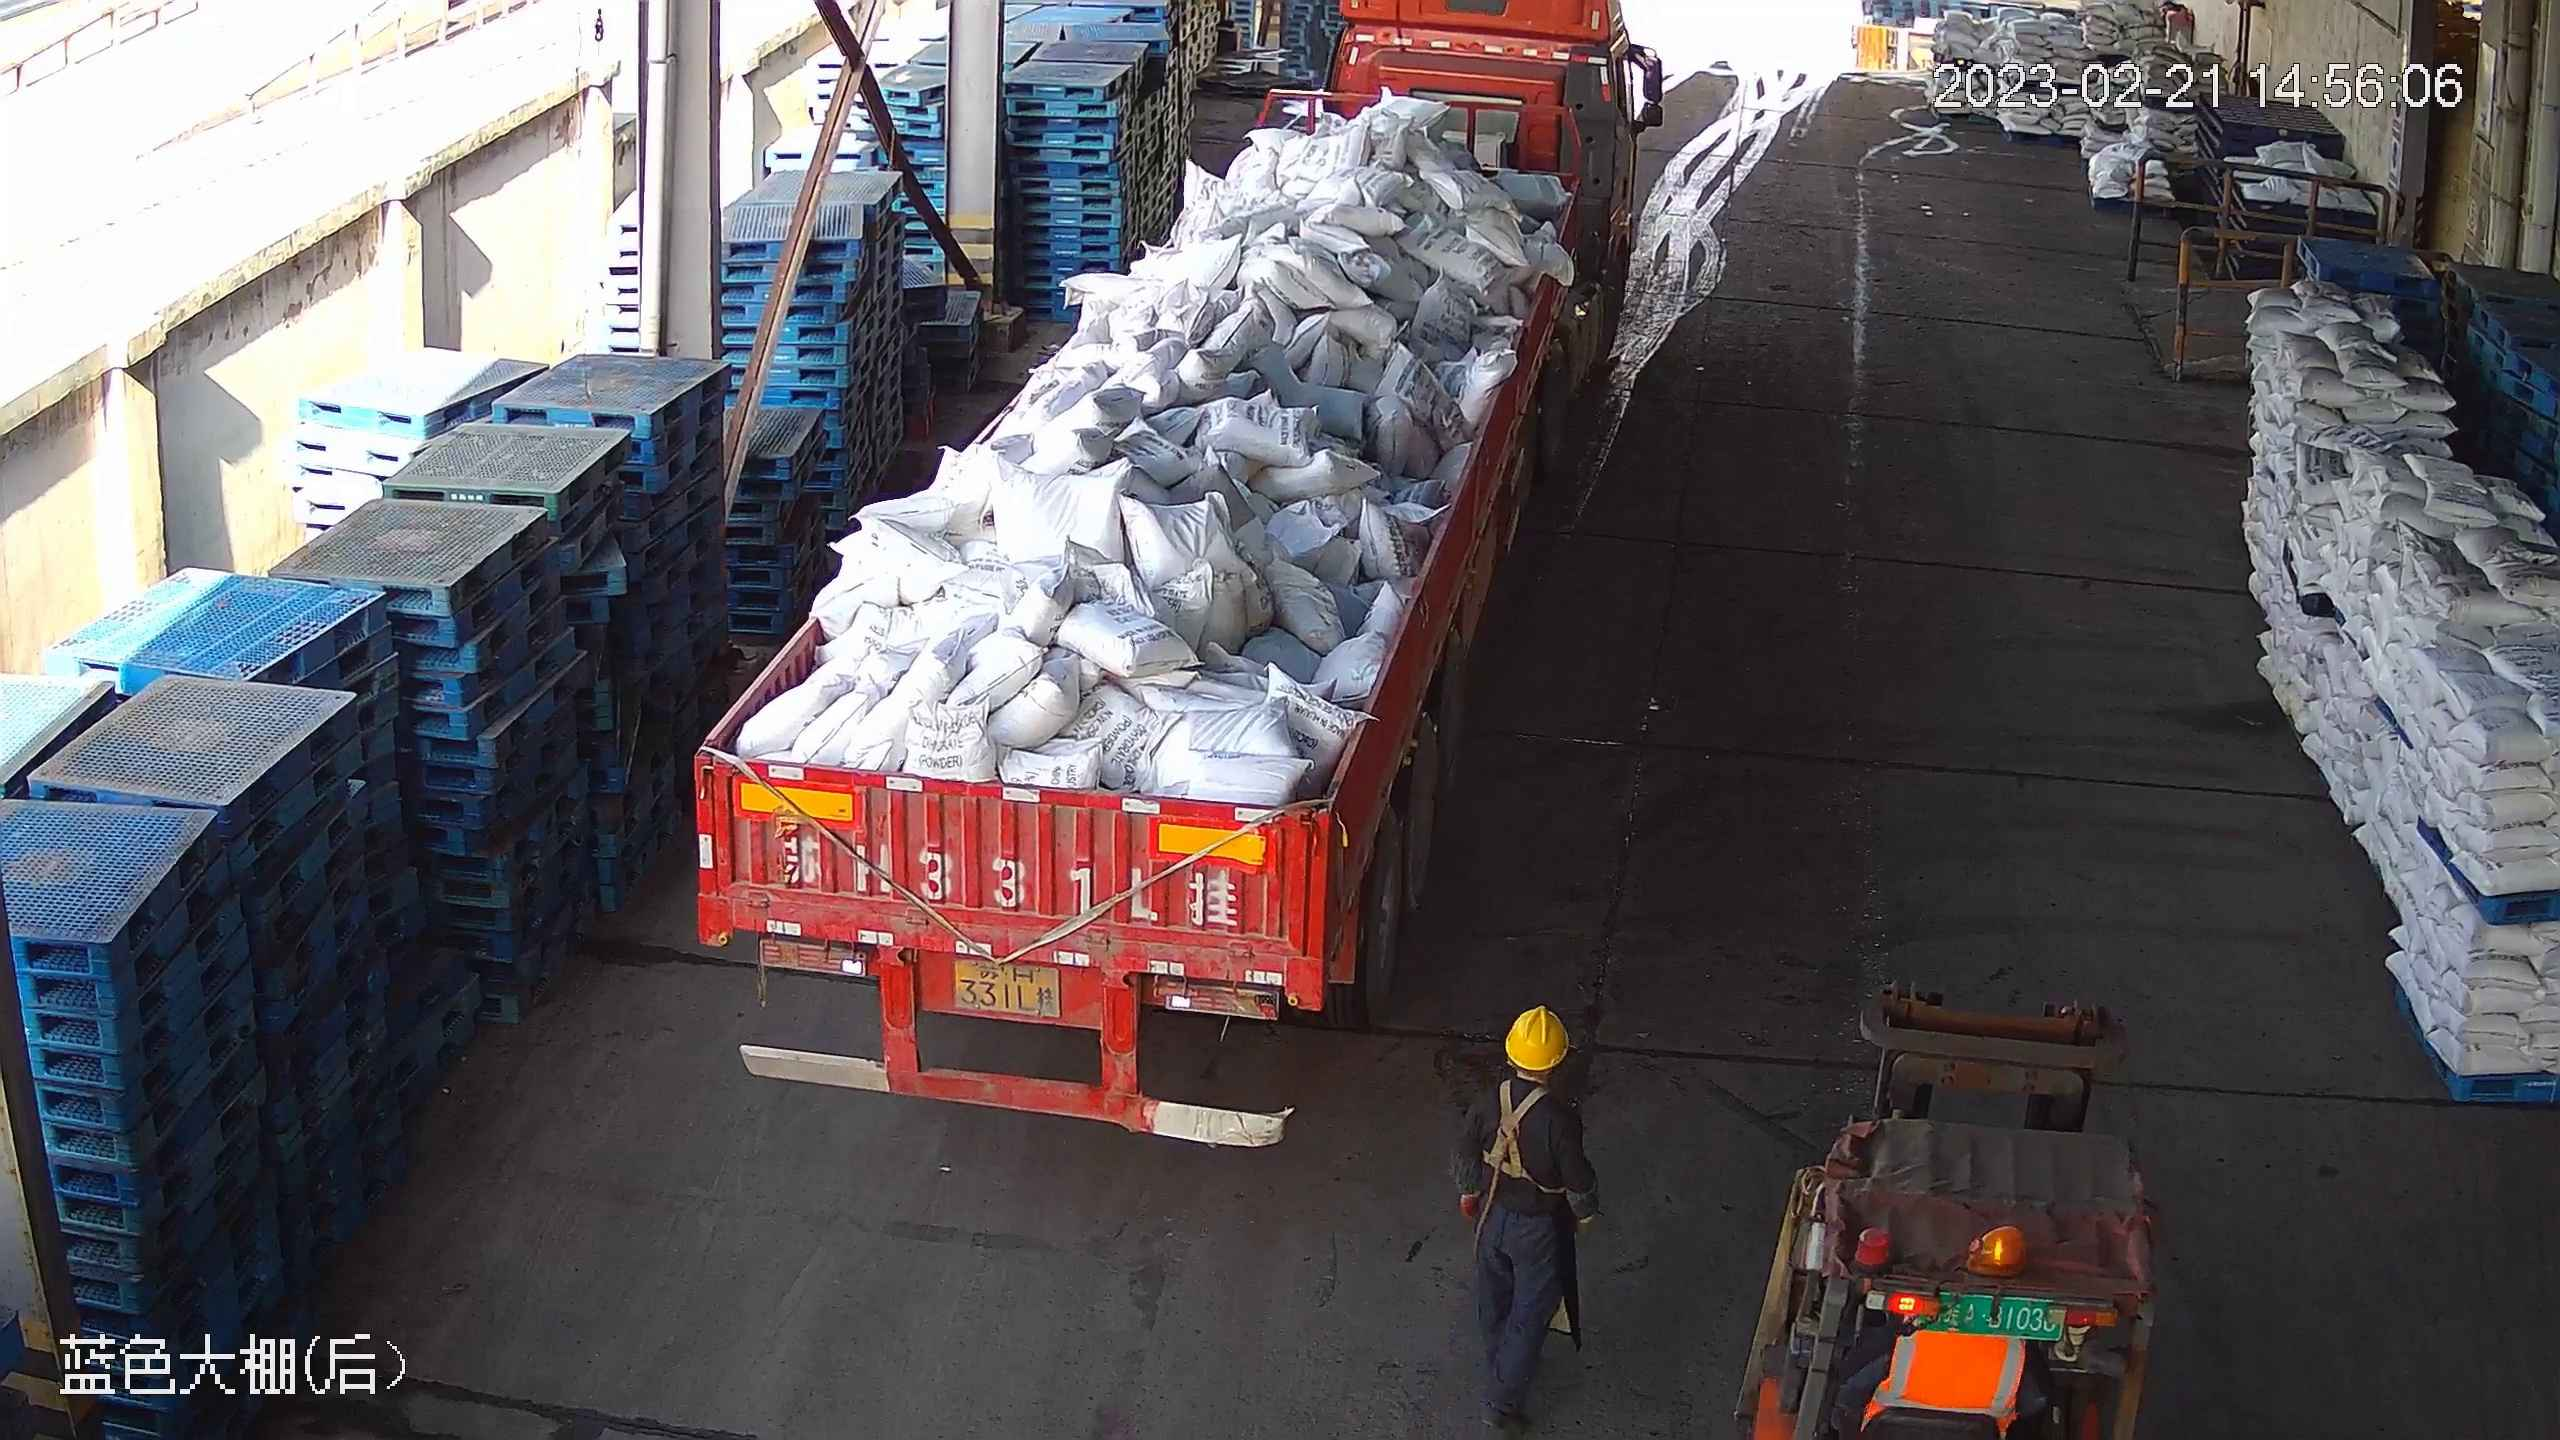belt: (1483, 1090, 1558, 1181)
head: (1480, 1008, 1575, 1120)
helmet: (1506, 1001, 1570, 1071)
people: (1448, 1009, 1609, 1440)
truck: (684, 1, 1663, 1169)
